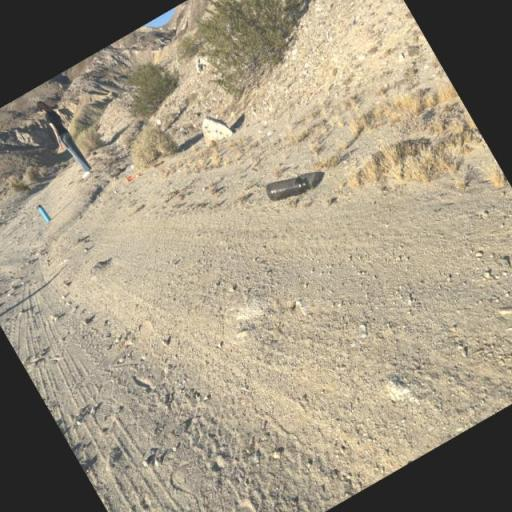bottle: (262, 164, 314, 210), (32, 200, 53, 225)
mallet: (122, 166, 144, 186)
